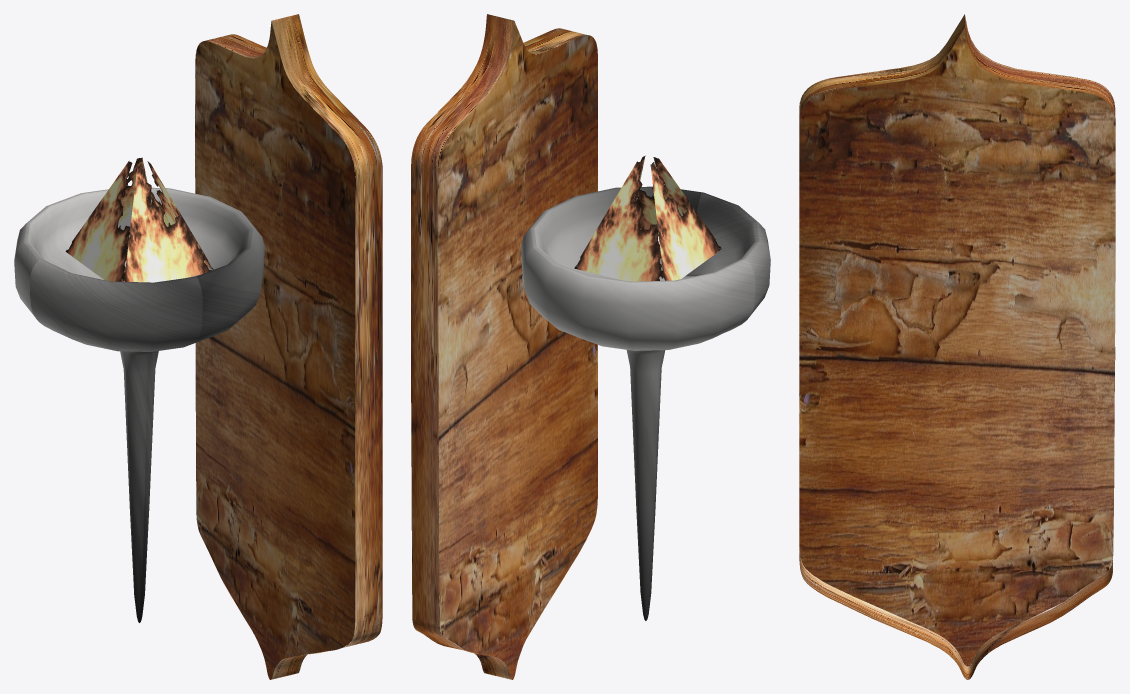
The model's file is torch.fbx.
The picture shows the model from 3 angles, left to right: view 1: azimuth 30°, elevation 25°; view 2: azimuth 150°, elevation 25°; view 3: azimuth 270°, elevation 25°; orthographic projection.
Visible parts, largest first — view 1: planarTrimmedSurface3, revolvedSurface1, loftedSurface2, Pyramid001; view 2: planarTrimmedSurface3, revolvedSurface1, loftedSurface2, Pyramid001; view 3: planarTrimmedSurface3, loftedSurface2.
Boxes of the visible parts, x1,y1,x2,y2 form: planarTrimmedSurface3: (195, 21, 355, 679); revolvedSurface1: (14, 187, 264, 622); loftedSurface2: (197, 14, 382, 679); Pyramid001: (65, 157, 213, 282); planarTrimmedSurface3: (438, 21, 597, 679); revolvedSurface1: (521, 186, 770, 620); loftedSurface2: (411, 14, 594, 679); Pyramid001: (574, 155, 721, 281); planarTrimmedSurface3: (799, 21, 1115, 666); loftedSurface2: (799, 14, 1115, 679).
Bounding box in the file's own units: 177 × 415 × 182.
3 materials, 3 textured.
